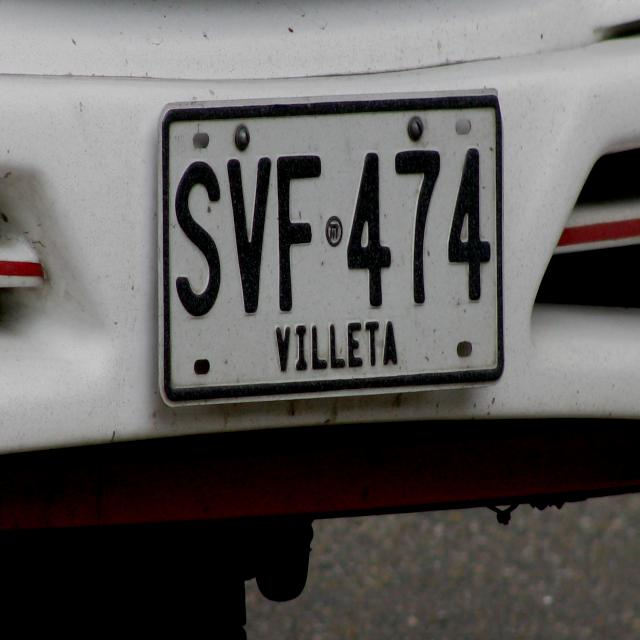placa: (151, 84, 514, 412)
